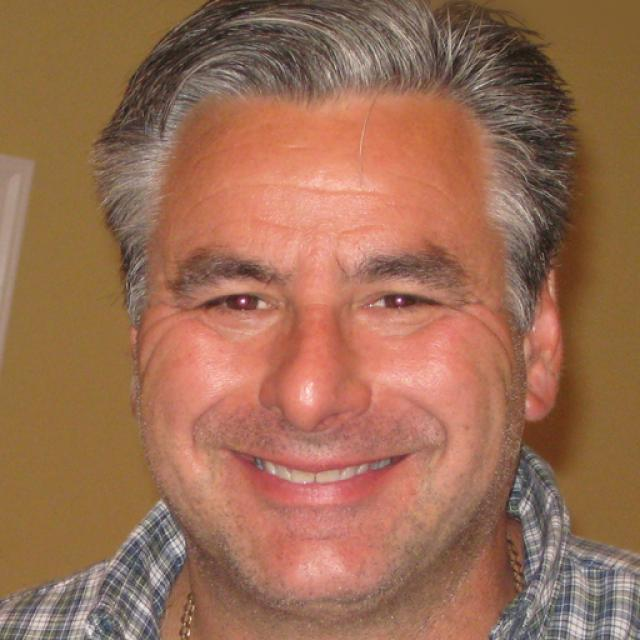Wrinkle: (263, 180, 390, 199), (186, 189, 231, 216), (254, 216, 303, 233), (337, 221, 379, 232)
